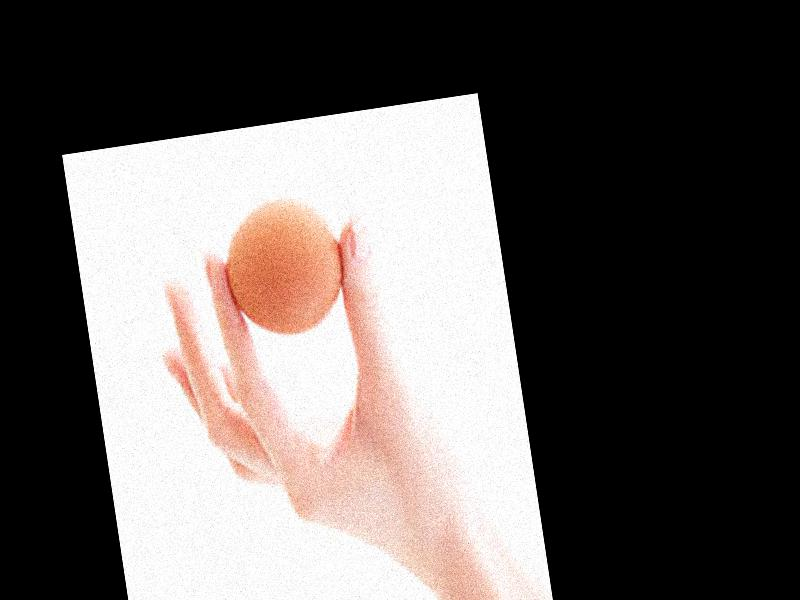Eggs: (216, 192, 352, 340)
